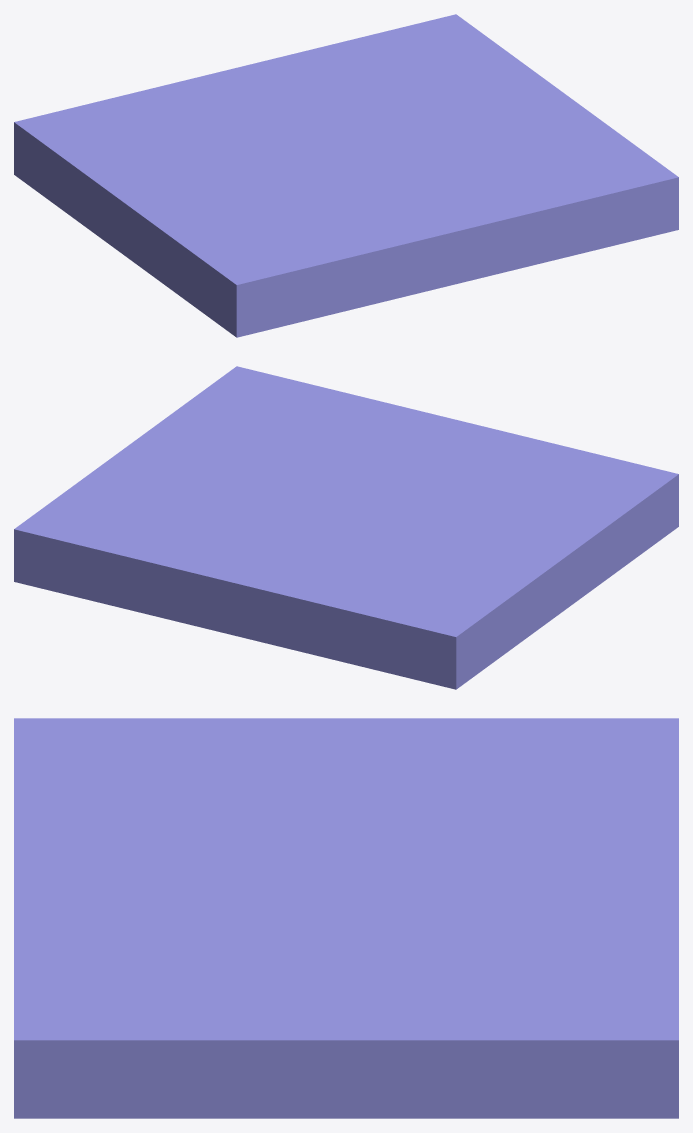
File: RiverResidence_A_F_Collision.glb
3 views of the same model, one above another, from view 1: azimuth 30°, elevation 25°; view 2: azimuth 150°, elevation 25°; view 3: azimuth 270°, elevation 25° (orthographic). The views are drawn at different scales.
Parts seen in each view (by area): view 1: RiverResidence_A_F_Collision; view 2: RiverResidence_A_F_Collision; view 3: RiverResidence_A_F_Collision.
Part boxes in pixels (box(x1,y1,x2,y2)): RiverResidence_A_F_Collision: box(14, 14, 678, 337); RiverResidence_A_F_Collision: box(14, 366, 678, 689); RiverResidence_A_F_Collision: box(14, 718, 678, 1118).
Size of the model in its own units: 25.1 by 2.85 by 21.9.
